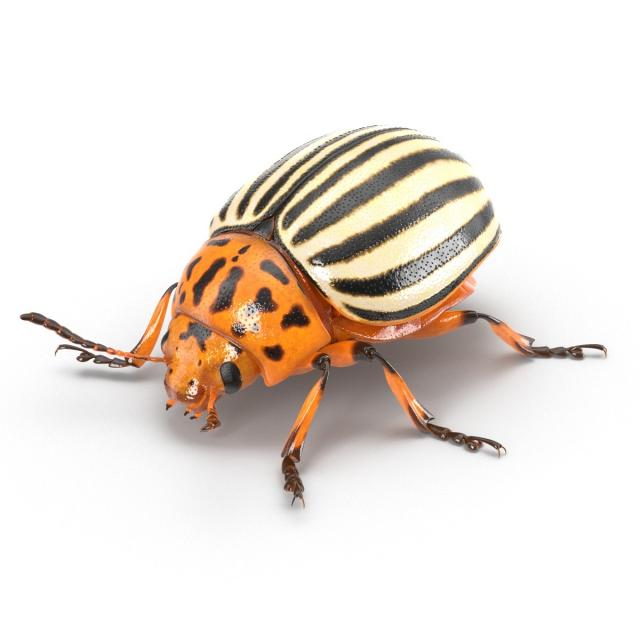ShuCaiHuaBanChong-Grown-: (106, 108, 559, 486)
